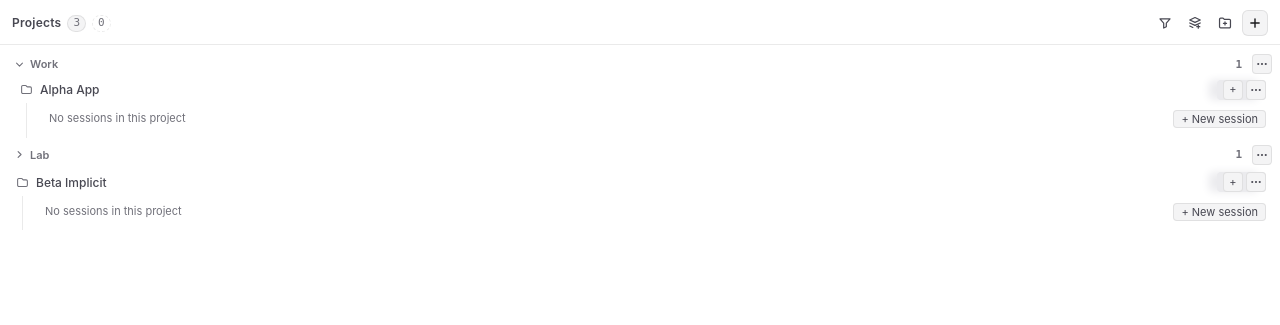
Test: SessionSidebar › orders header action buttons strictly as Filter -> New Group -> New Project -> New Session without duplicates
Click the button with test id "sidebar-filter-toggle" at (1165,23), box [1152,10,1178,36]
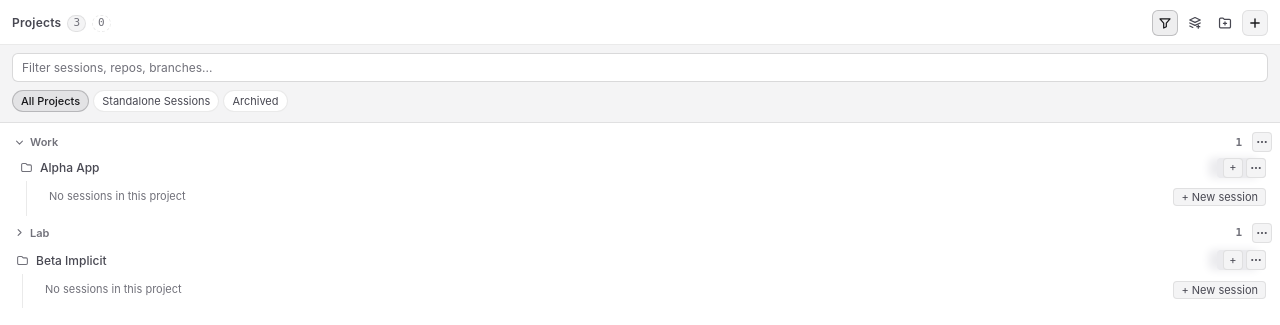
Expected: the number of buttons with test id "open-new-group-btn" is 1, [1182,10,1208,36]
Expected: the element with test id "sidebar-filter-drawer" is shown, [0,45,1279,123]
